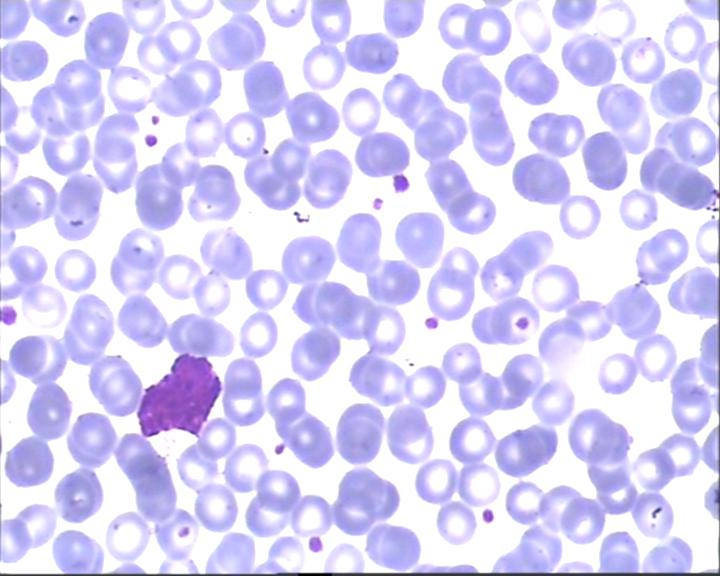baso: (135, 352, 221, 443)
